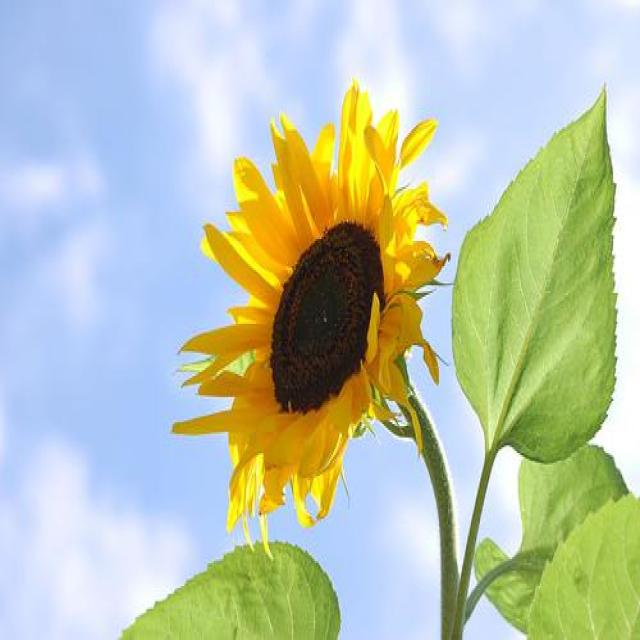sunflower: (171, 85, 450, 562)
